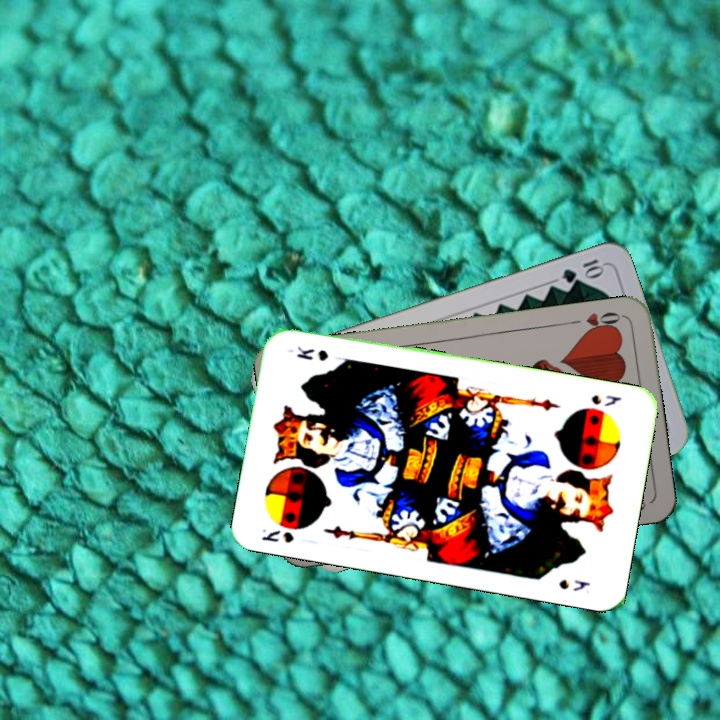G10: (558, 255, 607, 286)
HO: (566, 308, 625, 336)
SK: (257, 525, 296, 546), (587, 390, 624, 409)
